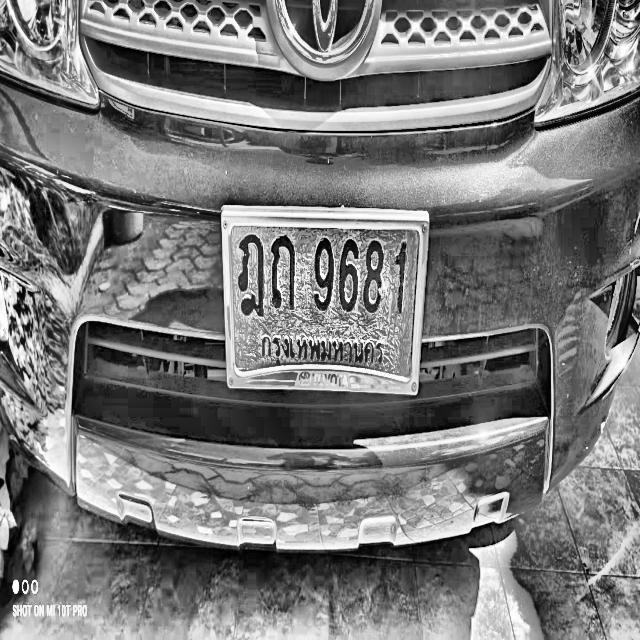license-plate: (215, 188, 429, 404)
